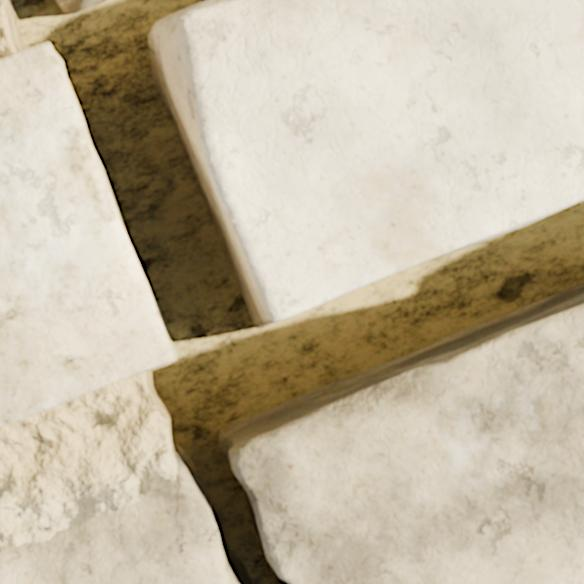brick: (183, 0, 583, 319), (0, 43, 172, 426)
broken_brick: (231, 305, 583, 583), (0, 467, 228, 583)
crack: (1, 0, 583, 583)
